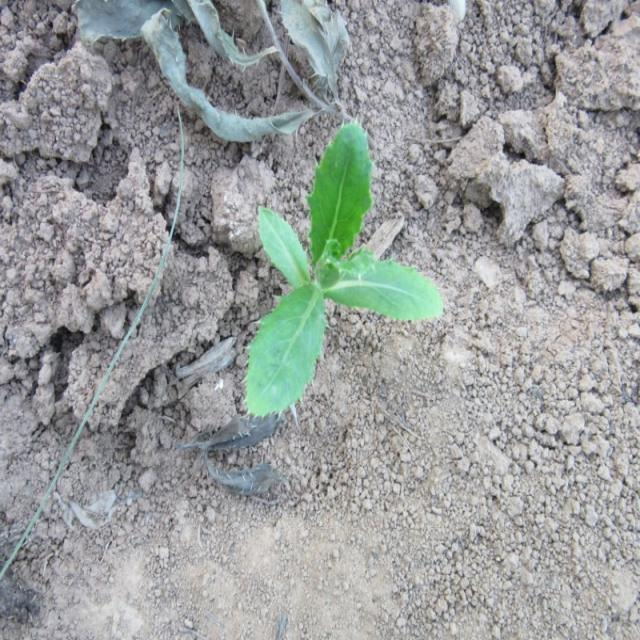cs: (241, 117, 449, 420)
